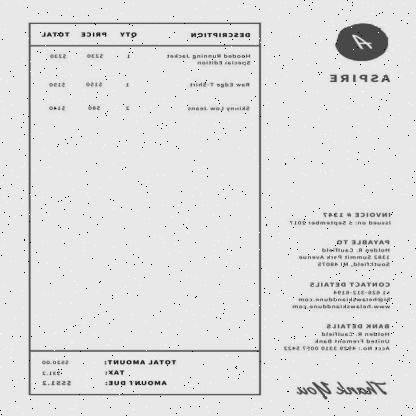Paragraph: (38, 356, 180, 388), (280, 322, 393, 352), (297, 237, 394, 269), (291, 280, 393, 310), (293, 378, 391, 402), (287, 209, 395, 228), (326, 70, 394, 86)
Table: (30, 24, 261, 116)
